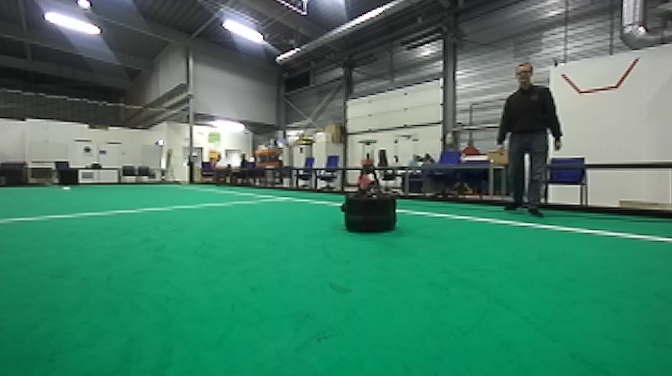human: (490, 58, 563, 225)
robot: (340, 135, 401, 243)
